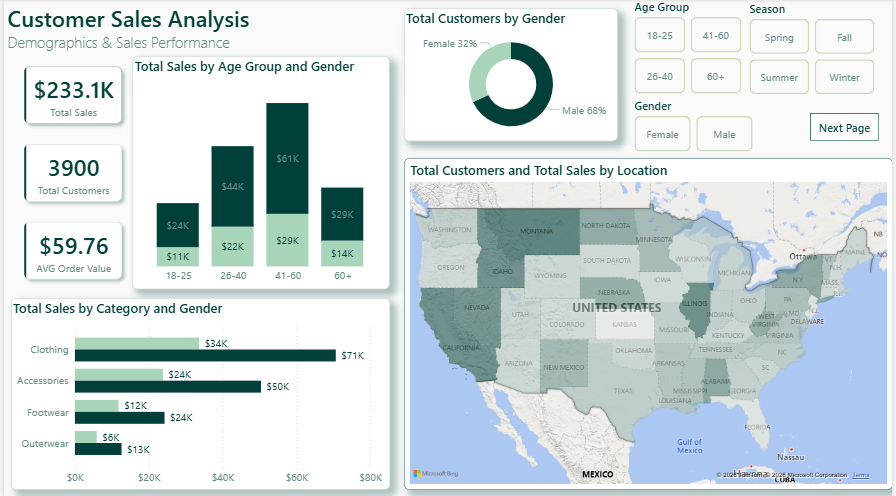

The page's visual inventory and layout, read from the dashboard file:
{"tool":"powerbi","page":{"name":"Demographics & Sales Performance","canvas":[1280,720],"ordinal":0},"visuals":[{"type":"columnChart","fields":{"Category":["shopping_behavior_cleaned.Age Group"],"Y":["shopping_behavior_cleaned.Total Sales"],"Series":["shopping_behavior_cleaned.Gender"]},"box":[184.8,82.3,371.2,336],"z":0},{"type":"cardVisual","fields":{"Data":["_Measures .Total Sales","_Measures .Total Customers","_Measures .AVG Order Value"]},"box":[0,67.2,199.9,366.2],"z":1000},{"type":"donutChart","fields":{"Category":["shopping_behavior_cleaned.Gender"],"Y":["_Measures .Total Customers"]},"box":[576,13,308.2,191.5],"z":2000},{"type":"filledMap","fields":{"Category":["shopping_behavior_cleaned.Location"]},"box":[576,229,704.2,478.1],"z":3000},{"type":"clusteredBarChart","fields":{"Category":["shopping_behavior_cleaned.Category"],"Y":["_Measures .Total Sales"],"Series":["shopping_behavior_cleaned.Gender"]},"box":[10.1,430.6,545.8,276.5],"z":4000},{"type":"textbox","box":[0,0,398.1,109.2],"z":5000},{"type":"advancedSlicerVisual","title":"Gender","fields":{"Values":["shopping_behavior_cleaned.Gender"]},"box":[902.9,142.6,180,82.1],"z":6000},{"type":"advancedSlicerVisual","title":"Age Group","fields":{"Values":["shopping_behavior_cleaned.Age Group"]},"box":[902.9,0,165.6,142.6],"z":7000},{"type":"advancedSlicerVisual","title":"Age Group","fields":{"Values":["shopping_behavior_cleaned.Season"]},"box":[1068.5,2.9,191.5,139.7],"z":8000},{"type":"actionButton","box":[1160.6,164.2,99.4,40.3],"z":9000}]}

Visuals, with their boxes in screenshot pixels (x1, y1, x2, y2), scaled from the page's 1280x720 canvas onto the 896x496 screenshot:
columnChart - shopping_behavior_cleaned.Age Group x shopping_behavior_cleaned.Total Sales: Rect(129, 57, 389, 288)
cardVisual - _Measures .Total Sales x _Measures .Total Customers: Rect(0, 46, 140, 299)
donutChart - shopping_behavior_cleaned.Gender x _Measures .Total Customers: Rect(403, 9, 619, 141)
filledMap - shopping_behavior_cleaned.Location: Rect(403, 158, 895, 487)
clusteredBarChart - shopping_behavior_cleaned.Category x _Measures .Total Sales: Rect(7, 297, 389, 487)
textbox: Rect(0, 0, 279, 75)
"Gender" advancedSlicerVisual: Rect(632, 98, 758, 155)
"Age Group" advancedSlicerVisual: Rect(632, 0, 748, 98)
"Age Group" advancedSlicerVisual: Rect(748, 2, 882, 98)
actionButton: Rect(812, 113, 882, 141)
